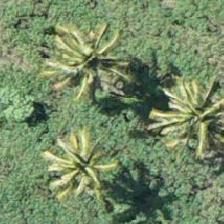coconut_tree: (35, 127, 125, 217), (42, 18, 132, 108), (149, 75, 223, 165)
